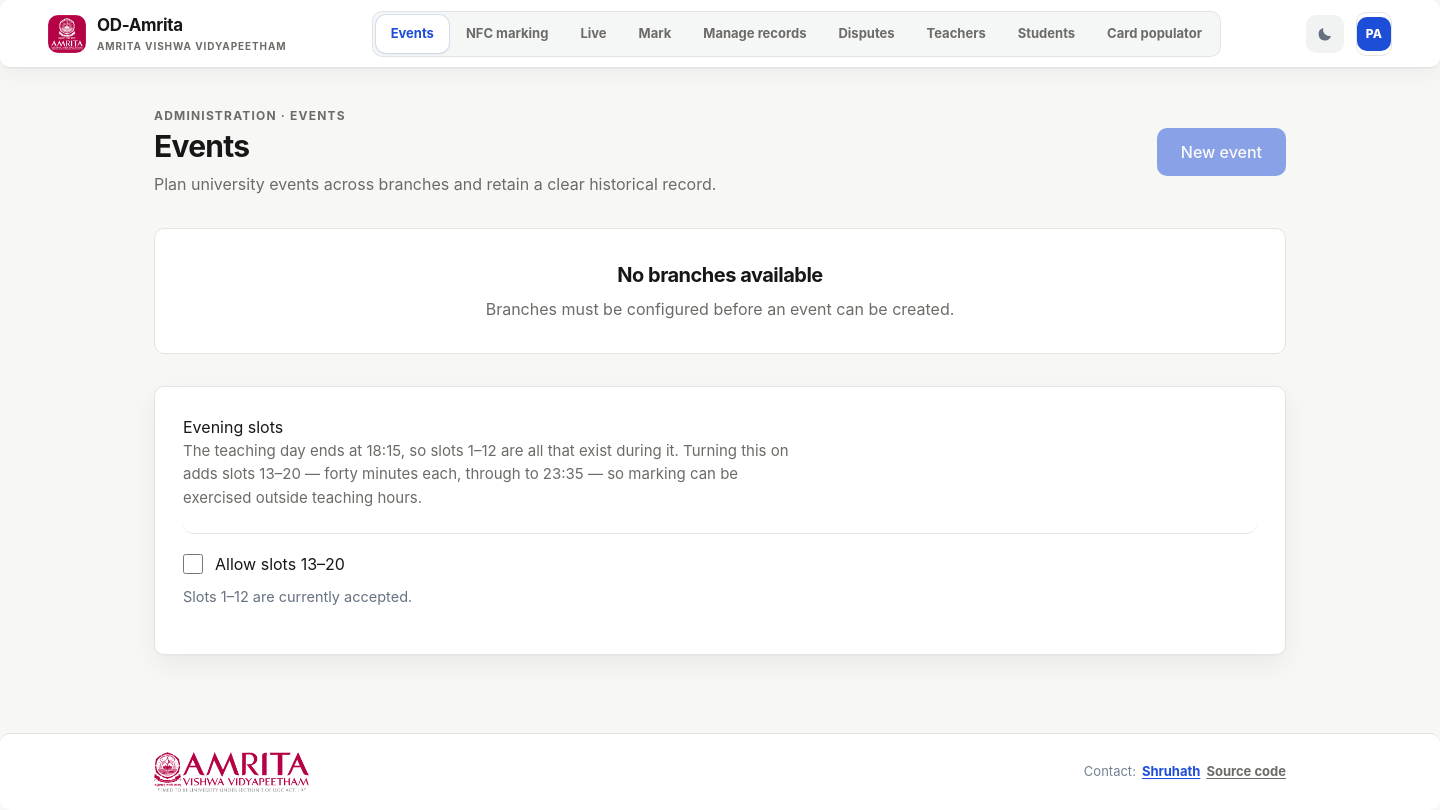
Test: the evening-slots switch › [P0] turning it on writes the setting and reports 20
Step 1. Click the switch labelled "Allow slots 13–20" → (193, 564), box [183,554,203,574]
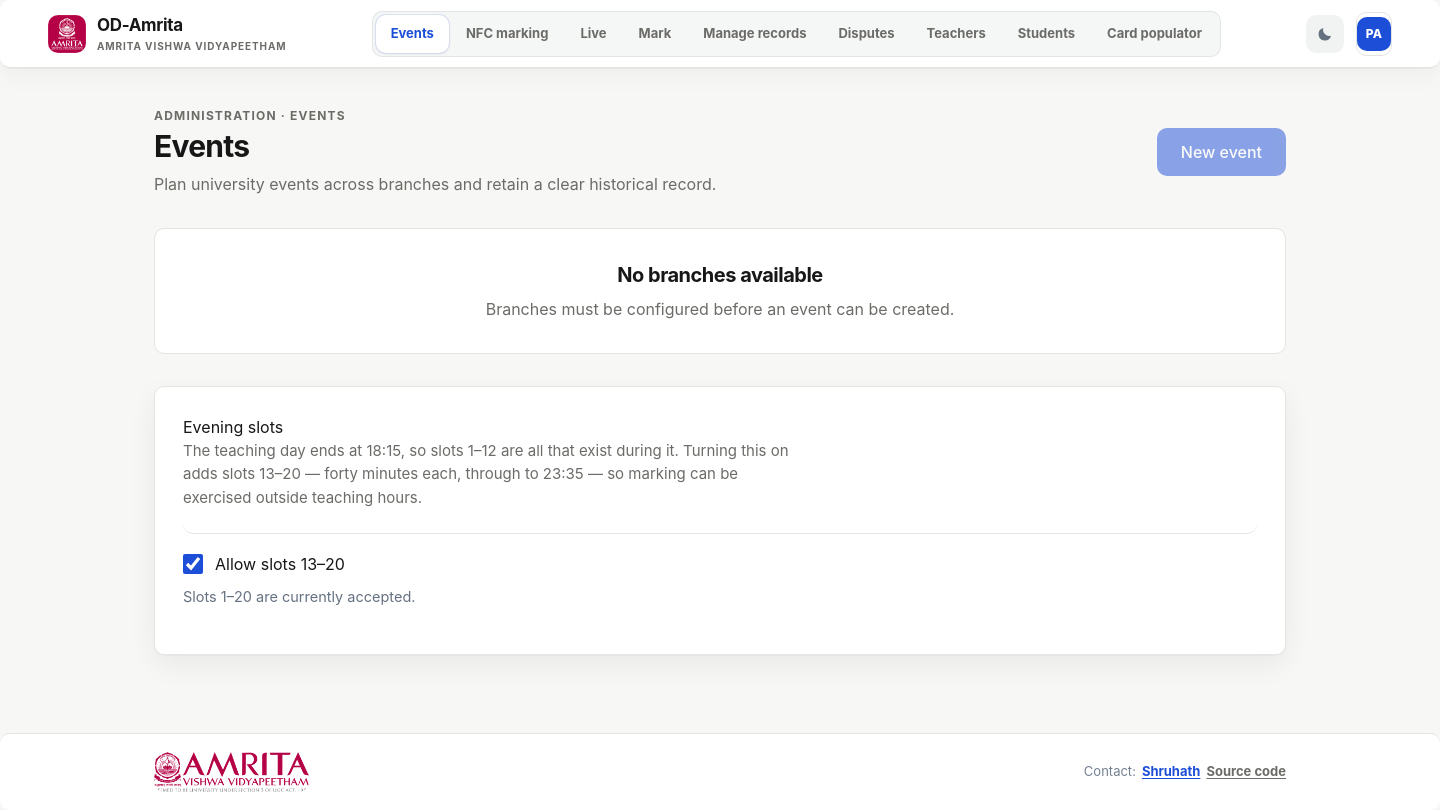
Expected: the switch labelled "Allow slots 13–20" is checked, [183,554,203,574]
Expected: the text "Slots 1–20 are currently accepted." is shown, [183,588,416,605]
